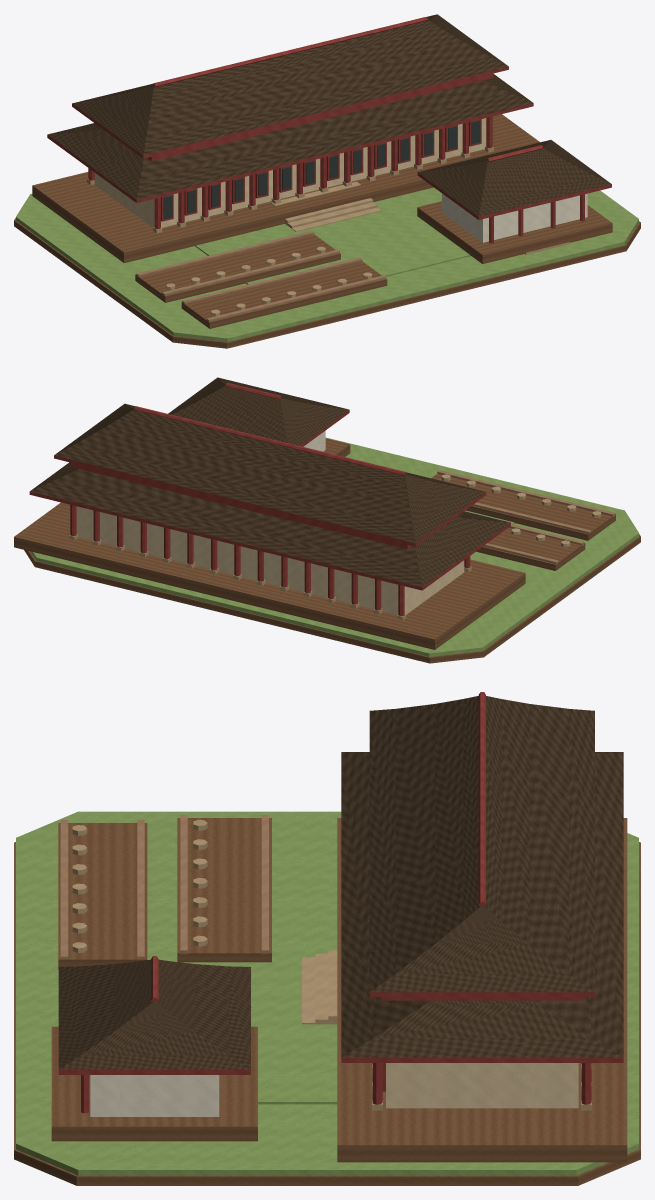
File: yinxu.glb
The picture shows the model from 3 angles, top to bottom: view 1: azimuth 30°, elevation 25°; view 2: azimuth 150°, elevation 25°; view 3: azimuth 270°, elevation 25°; orthographic projection. The views are drawn at different scales.
Visible parts, largest first — view 1: 安阳殷墟; view 2: 安阳殷墟; view 3: 安阳殷墟.
Boxes of the visible parts, x1,y1,x2,y2 form: 安阳殷墟: (14, 14, 640, 348); 安阳殷墟: (14, 377, 640, 663); 安阳殷墟: (14, 692, 640, 1185).
Bounding box in the file's own units: 12.45 × 3.51 × 9.15.
11 materials, 11 textured.
